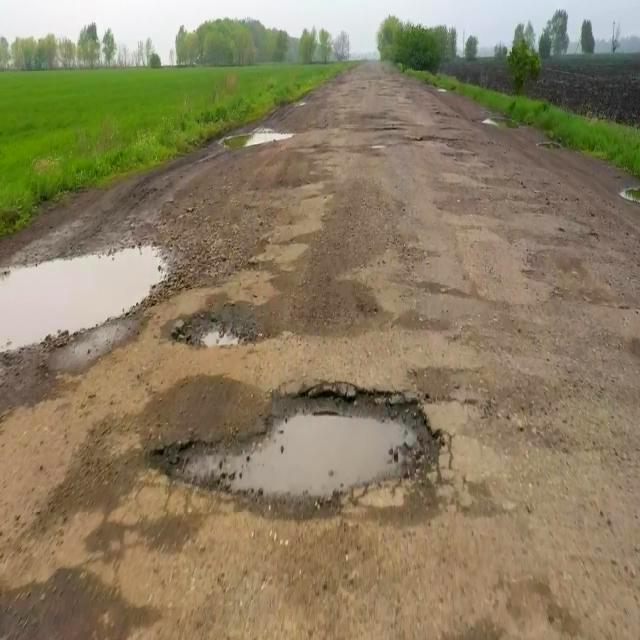Pothole: (136, 371, 459, 518), (0, 234, 174, 362), (155, 302, 266, 384), (226, 113, 300, 158), (461, 107, 522, 145)
